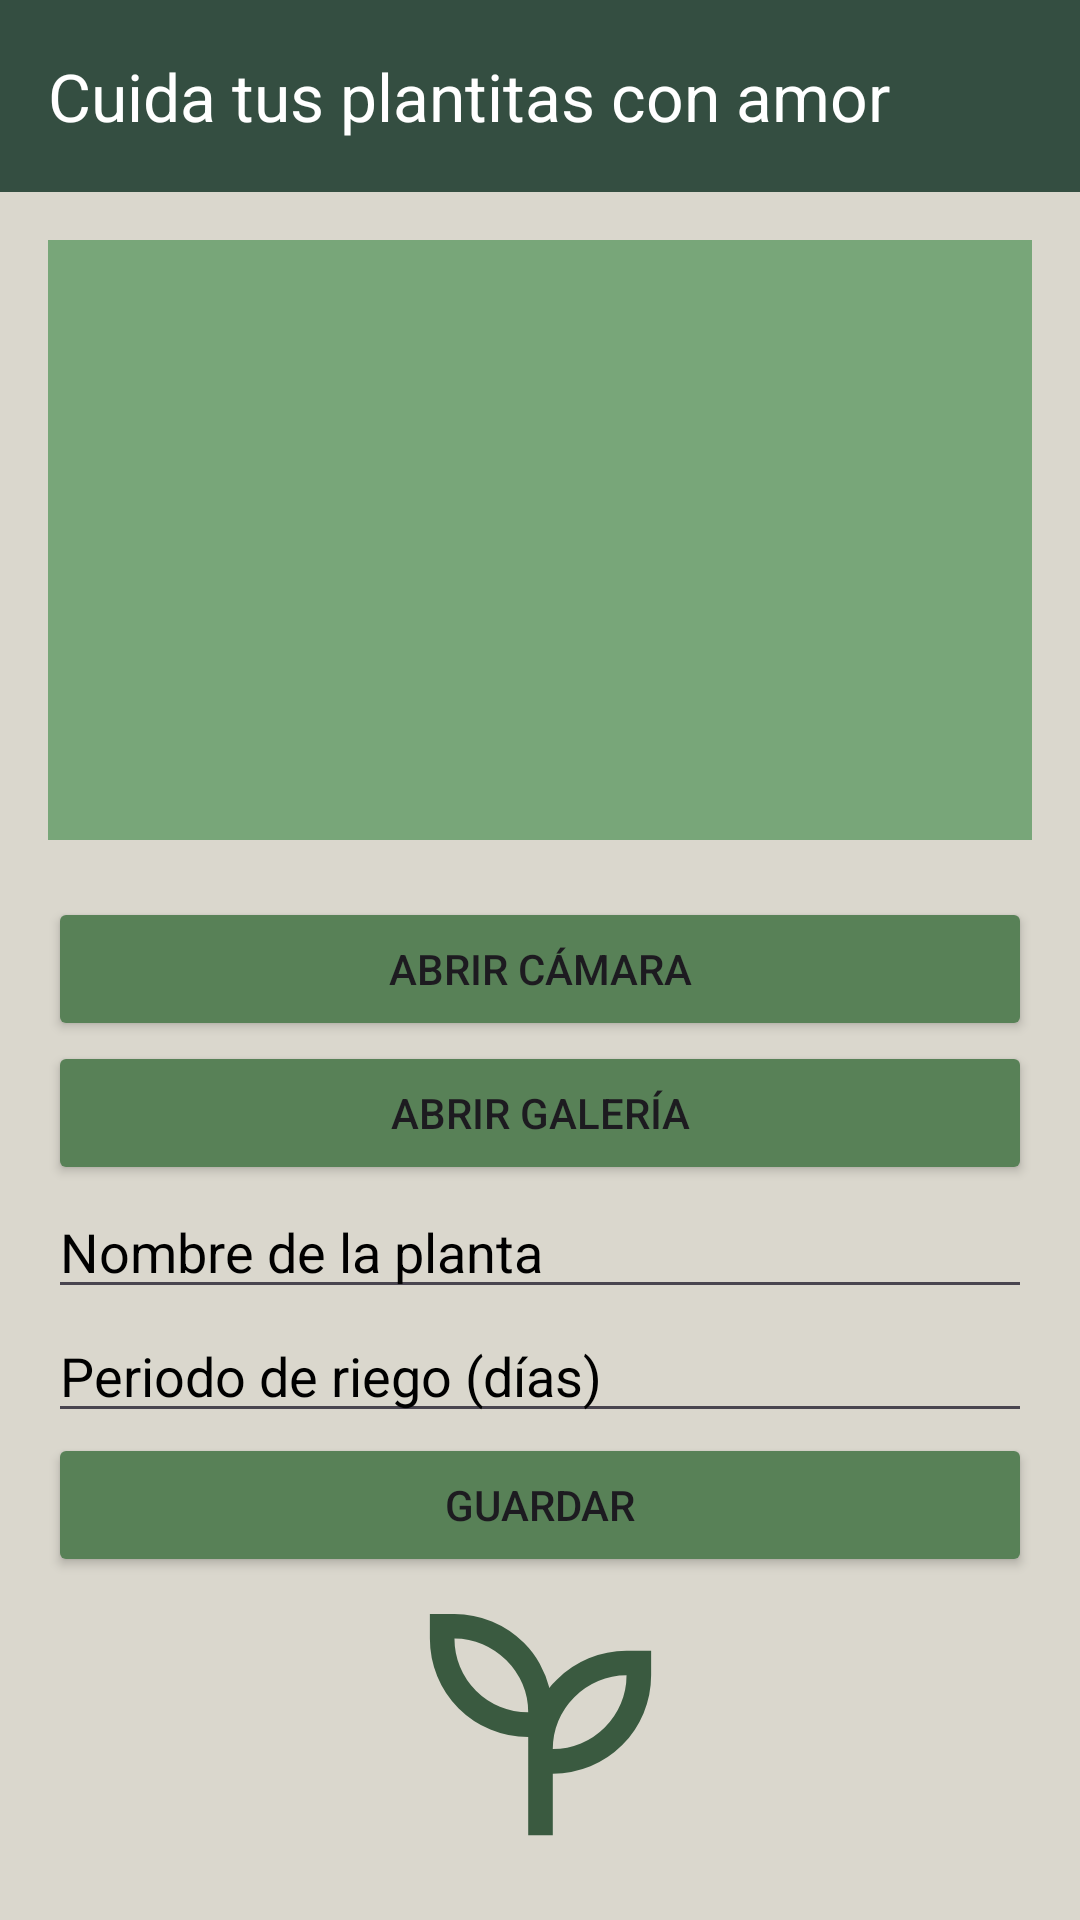

Where icons sit on this 1080px x 1920px app screen, as (x1, y1, x2, y2):
plants: (430, 1614, 651, 1836)
